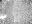person: (1, 13, 6, 20)
